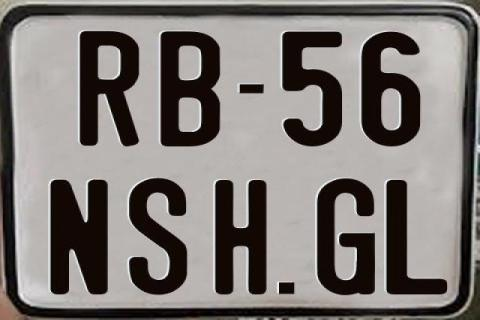0: (360, 32, 422, 152), (279, 29, 340, 147)
B: (159, 29, 219, 145)
G: (314, 177, 375, 296)
H: (215, 180, 269, 294)
L: (384, 177, 450, 293)
N: (48, 178, 112, 294)
R: (80, 30, 139, 146)
S: (126, 176, 186, 294)
